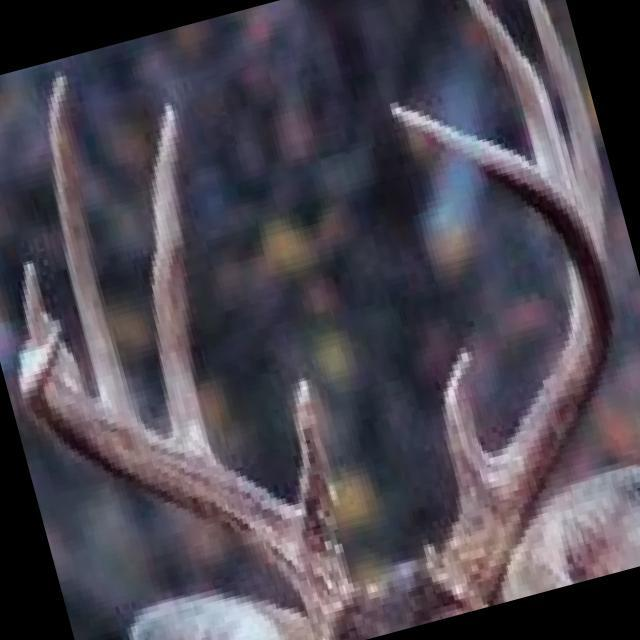L-F: (390, 100, 613, 608)
L-G1: (442, 346, 491, 498)
R-F: (19, 322, 357, 640)
R-G1: (292, 377, 339, 540)
R-G2: (150, 98, 209, 451)
R-G3: (48, 70, 135, 414)
